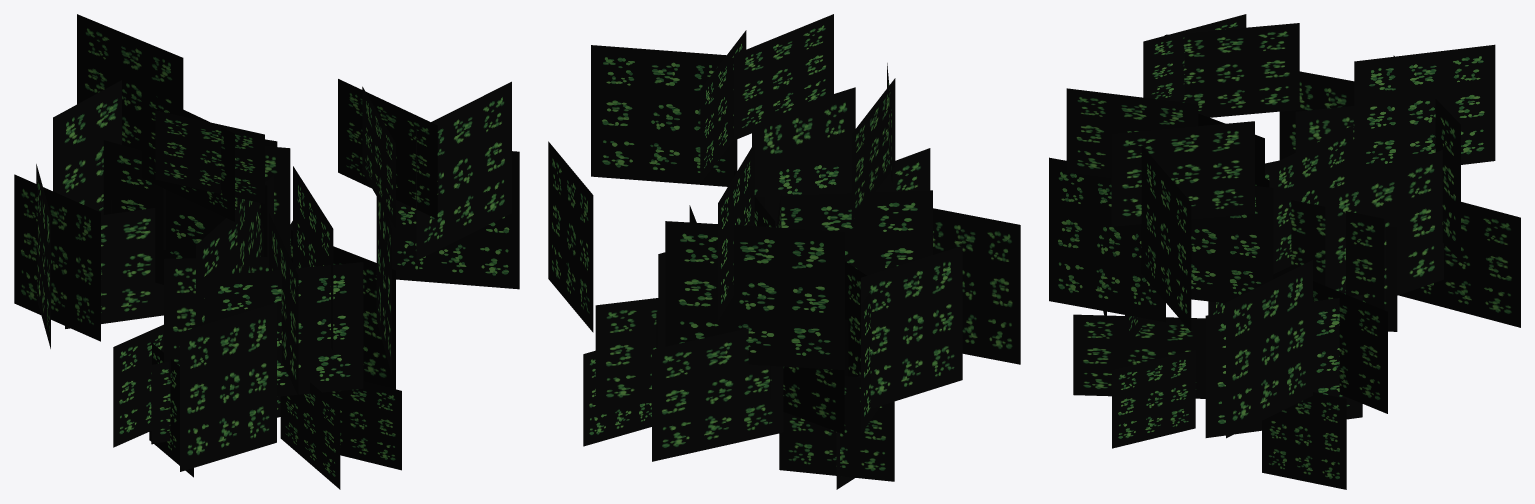
The model's file is Ornamental_hedge_shrub_privet_barberry.glb.
3 views of the same model, side by side, from view 1: azimuth 30°, elevation 25°; view 2: azimuth 150°, elevation 25°; view 3: azimuth 270°, elevation 25° (orthographic).
Parts seen in each view (by area): view 1: Hedge_Foliage_Cards; view 2: Hedge_Foliage_Cards; view 3: Hedge_Foliage_Cards.
Boxes of the visible parts, x1,y1,x2,y2 form: Hedge_Foliage_Cards: (14,14,519,489); Hedge_Foliage_Cards: (548,14,1020,489); Hedge_Foliage_Cards: (1049,14,1520,489).
Bounding box in the file's own units: 1.76 × 1.36 × 1.65.
Materials: 1 (1 with a texture image).
